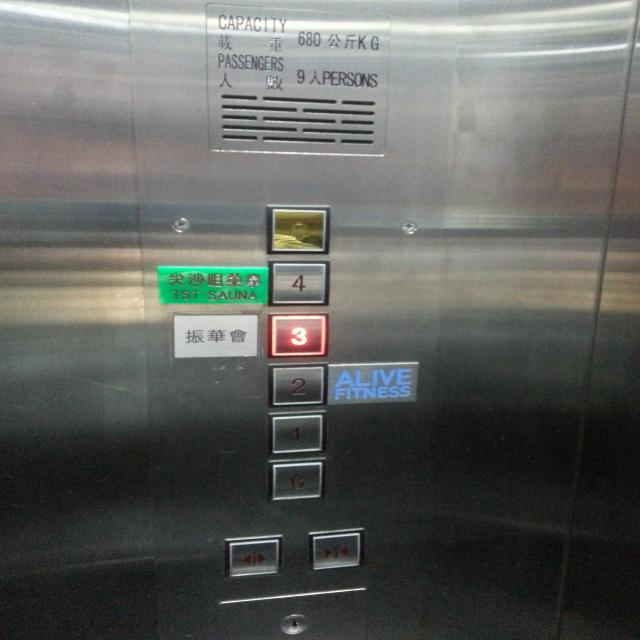1: (265, 409, 330, 457)
2: (264, 362, 330, 410)
3: (265, 311, 331, 361)
4: (264, 258, 332, 308)
G: (266, 457, 328, 504)
alarm: (262, 202, 332, 256)
close: (304, 525, 367, 575)
keyhole: (278, 610, 311, 638)
open: (221, 532, 285, 581)
